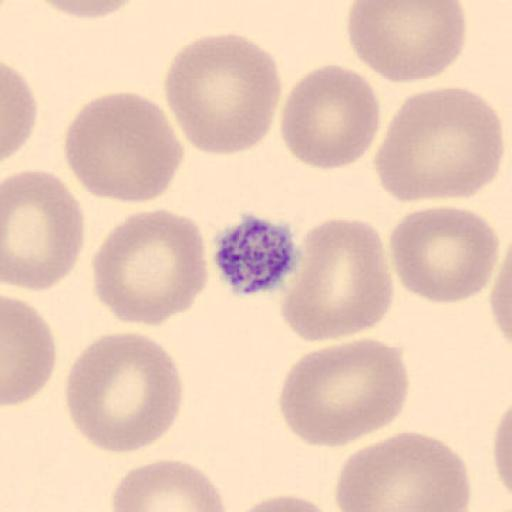Platelet: (210, 210, 305, 296)
RBC: (373, 85, 506, 204), (161, 31, 284, 157), (63, 329, 184, 455), (277, 337, 411, 449), (281, 216, 395, 344), (90, 207, 210, 328), (62, 90, 185, 205), (388, 205, 501, 306), (336, 430, 472, 512), (280, 63, 381, 171), (1, 168, 87, 292), (346, 0, 468, 85), (0, 296, 58, 408), (110, 457, 227, 512), (2, 62, 38, 164), (489, 232, 512, 346), (490, 402, 512, 508), (30, 0, 145, 20), (488, 260, 512, 345), (231, 493, 341, 511), (493, 409, 512, 497)
